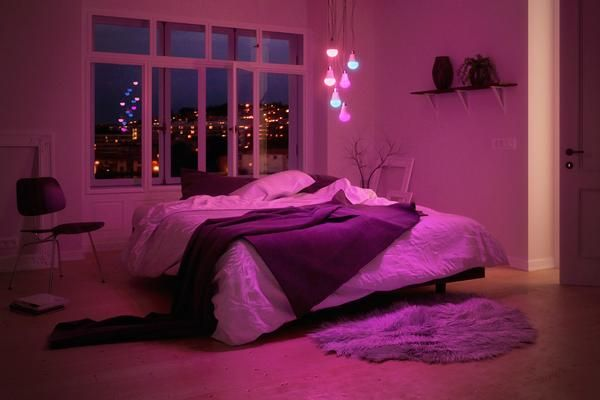bulb: (320, 37, 339, 62), (343, 53, 362, 77), (335, 108, 356, 126), (338, 74, 356, 91), (326, 91, 344, 106), (321, 69, 337, 85)
